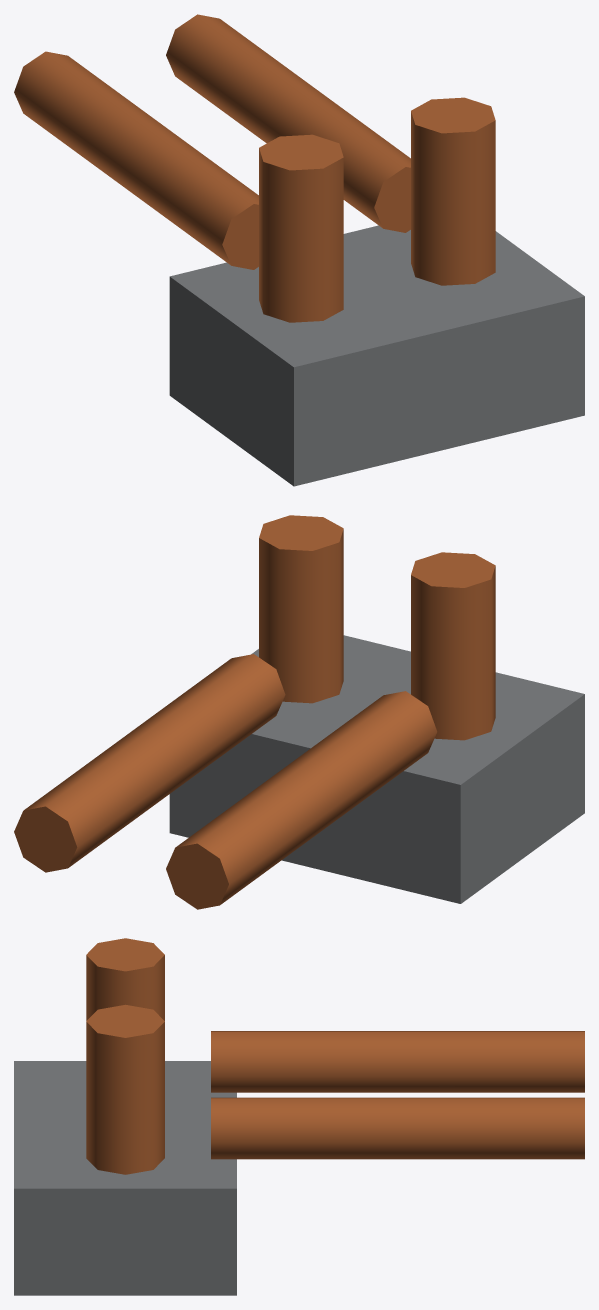
Rendered from er1_emergency_coolant.obj.
3 views of the same model, one above another, from view 1: azimuth 30°, elevation 25°; view 2: azimuth 150°, elevation 25°; view 3: azimuth 270°, elevation 25° (orthographic). The views are drawn at different scales.
Parts seen in each view (by area): view 1: er1_emergency_coolant; view 2: er1_emergency_coolant; view 3: er1_emergency_coolant.
Part boxes in pixels (left/top/right/bottom): er1_emergency_coolant: left=14, top=14, right=584, bottom=486; er1_emergency_coolant: left=14, top=515, right=584, bottom=909; er1_emergency_coolant: left=14, top=938, right=584, bottom=1295.
Bounding box in the file's own units: 0.2153 × 0.1919 × 0.4072.
